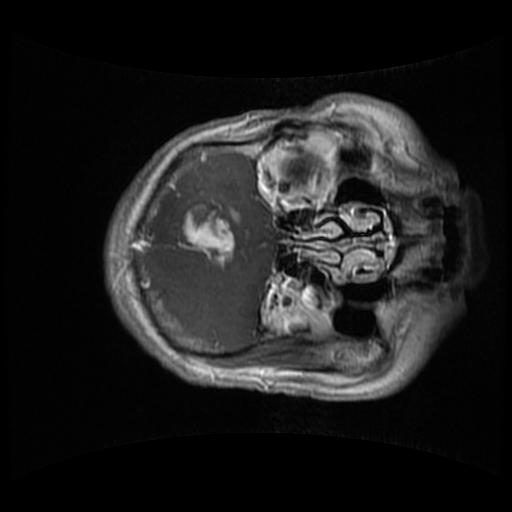glioma: (175, 200, 234, 273)
